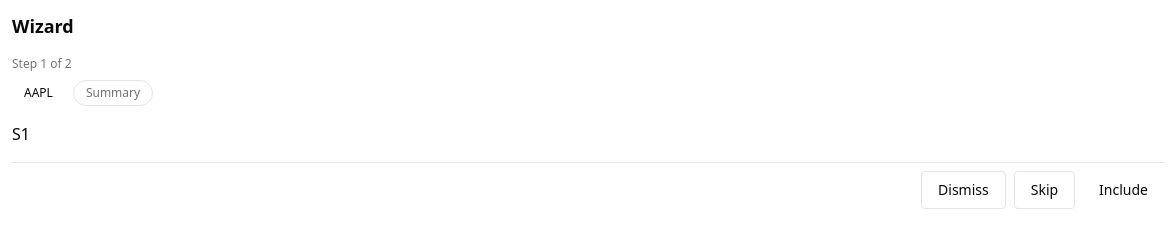
Scenario: Wizard include map › Skip sets the active step's include map to false and advances
The image size is (1176, 243).
Click the button "Skip" at {"x": 1044, "y": 190}, box left=1014, top=171, right=1075, bottom=209
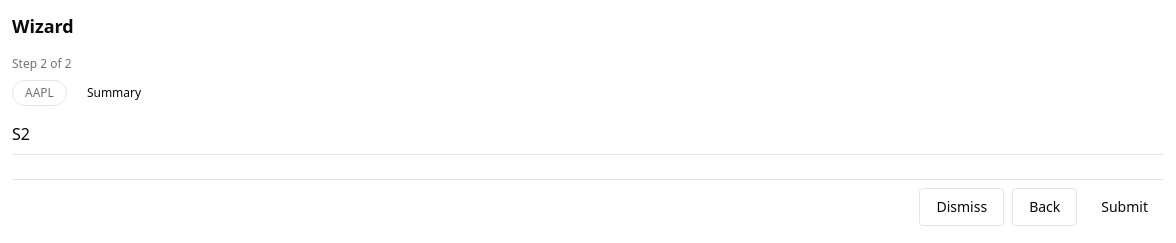
Expected: the text "Step 2 of 2" is shown, left=12, top=55, right=72, bottom=72
